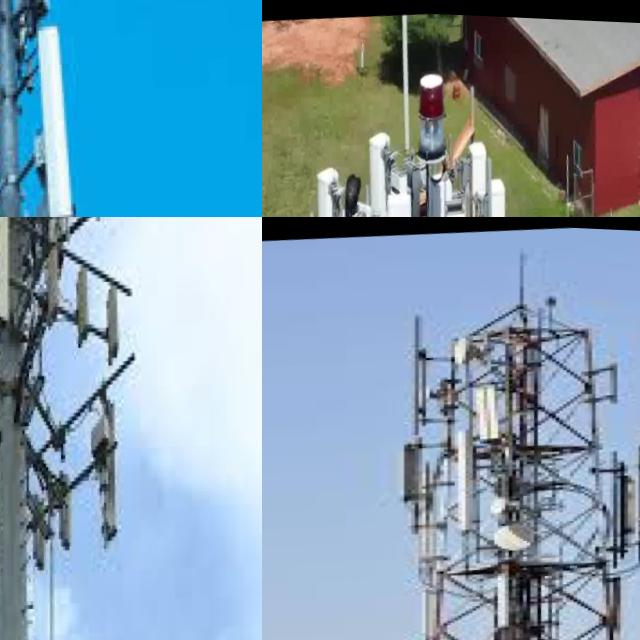GSM Antenna: (21, 7, 98, 217), (84, 394, 142, 545), (453, 424, 492, 524), (360, 128, 399, 217), (468, 377, 514, 449), (0, 217, 30, 326), (94, 276, 132, 362), (307, 154, 351, 217), (59, 465, 91, 550), (34, 487, 66, 571), (69, 264, 101, 346), (463, 139, 498, 211), (482, 168, 529, 217), (380, 184, 424, 217)
Microwave Antenna: (499, 516, 550, 554), (447, 333, 485, 370), (491, 492, 527, 517)
